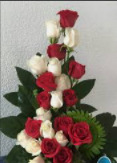RedRose: (66, 120, 93, 145), (55, 7, 80, 31), (36, 69, 58, 92), (65, 59, 87, 81), (39, 137, 62, 158), (33, 89, 54, 110), (62, 89, 81, 107)
